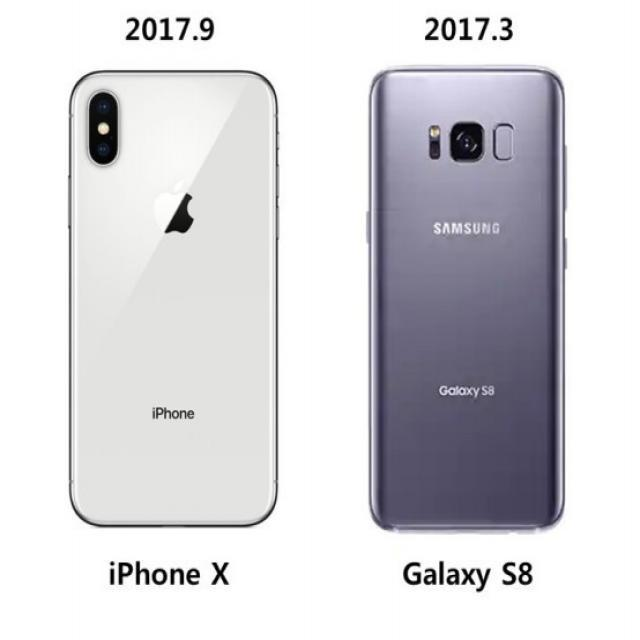phone: (66, 68, 282, 530), (363, 64, 569, 535)
